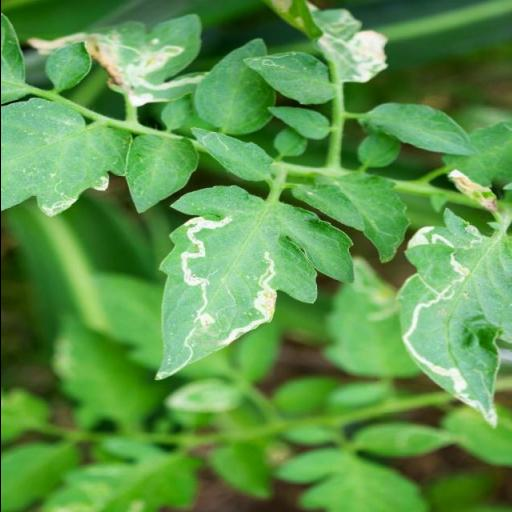disease_tomato: (154, 187, 355, 381), (390, 206, 512, 428)
